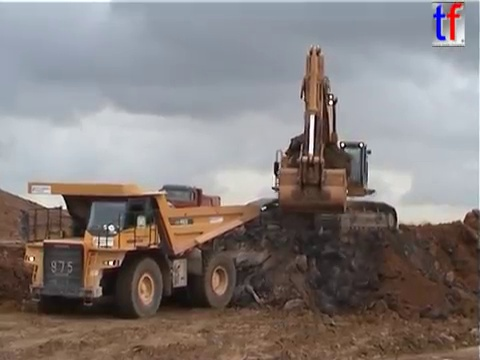excavator: (240, 42, 399, 238)
truck: (18, 179, 262, 320), (155, 182, 223, 220)
